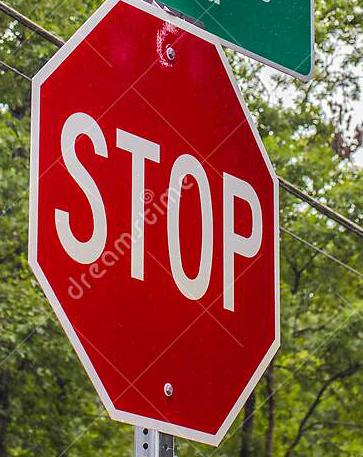Stop sign: (0, 0, 362, 456)
